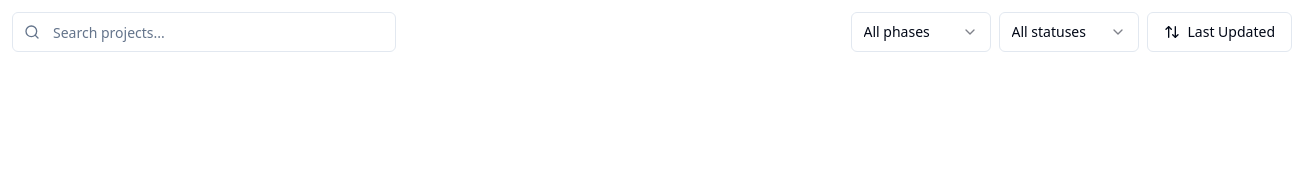
Test: ProjectFilters › should toggle sort order
The image size is (1304, 172).
Click the button "Last Updated" at x=1219, y=32, box 1146,12 -> 1292,52
Wait 500 ms
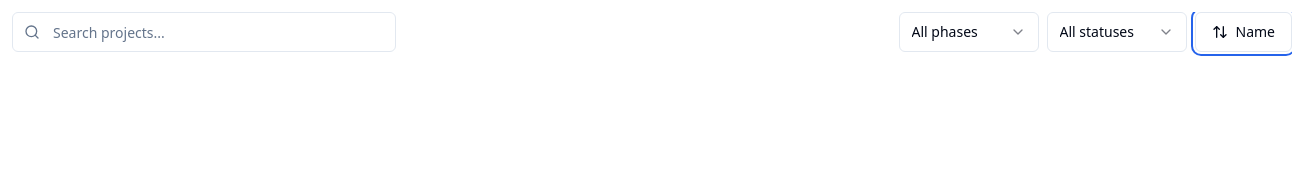
Check: the button "Name" is shown, box 1194,12 -> 1292,52
